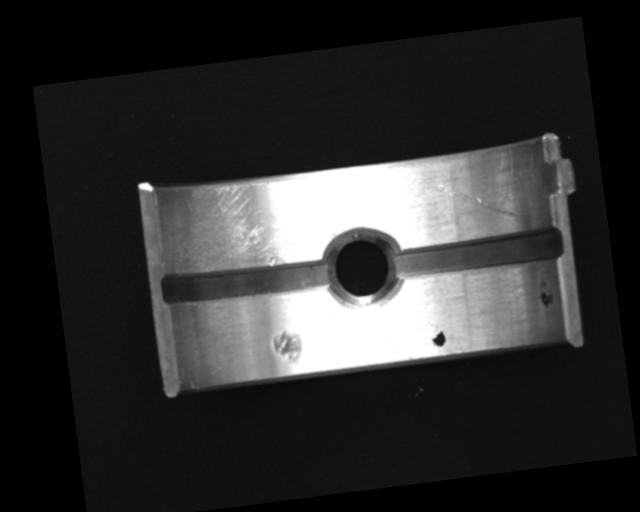blot: (537, 276, 555, 309), (430, 326, 446, 348)
bruise: (270, 328, 304, 369)
gap: (159, 251, 338, 310), (390, 225, 566, 285)
hole: (320, 221, 408, 314)
nick: (434, 173, 519, 228)
scratch: (164, 170, 326, 278)
